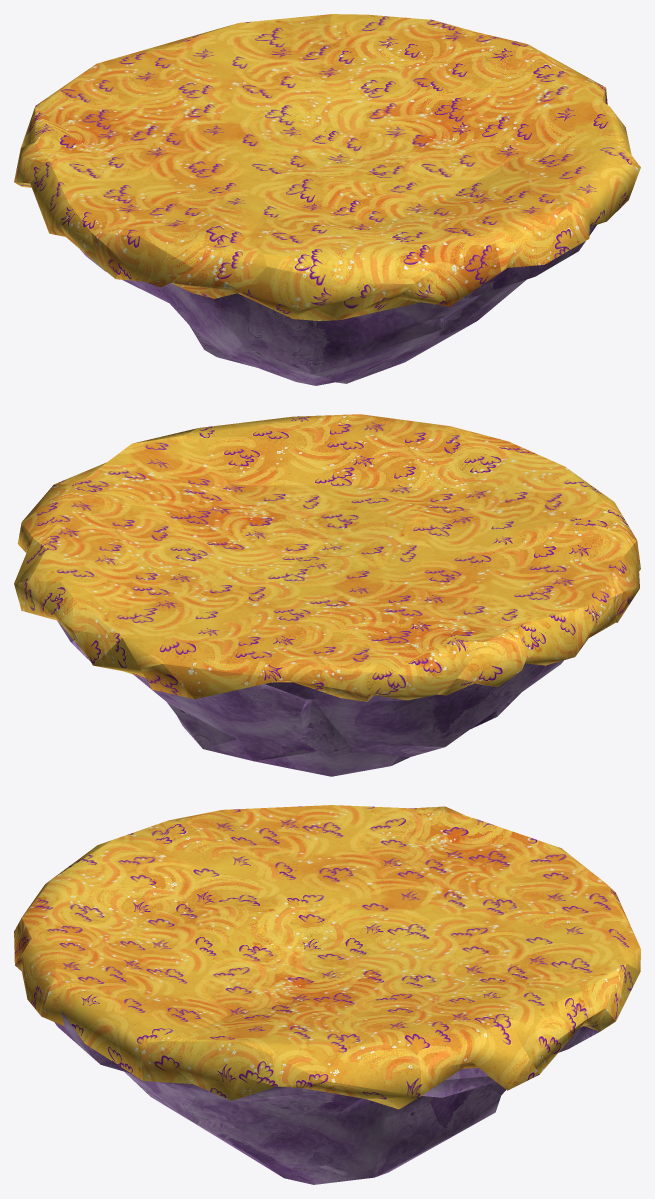
File: Floating_Island_01_Art.glb
The picture shows the model from 3 angles, top to bottom: view 1: azimuth 30°, elevation 25°; view 2: azimuth 150°, elevation 25°; view 3: azimuth 270°, elevation 25°; orthographic projection.
Visible parts, largest first — view 1: Floating_Island_01_Art; view 2: Floating_Island_01_Art; view 3: Floating_Island_01_Art.
Part boxes in pixels (x1=…): Floating_Island_01_Art: x1=14, y1=14, x2=640, y2=385; Floating_Island_01_Art: x1=14, y1=414, x2=640, y2=776; Floating_Island_01_Art: x1=14, y1=805, x2=640, y2=1184.
Size of what is drawn, in the model's own units: 14.79 by 5.6 by 14.49.
2 materials, 2 textured.
